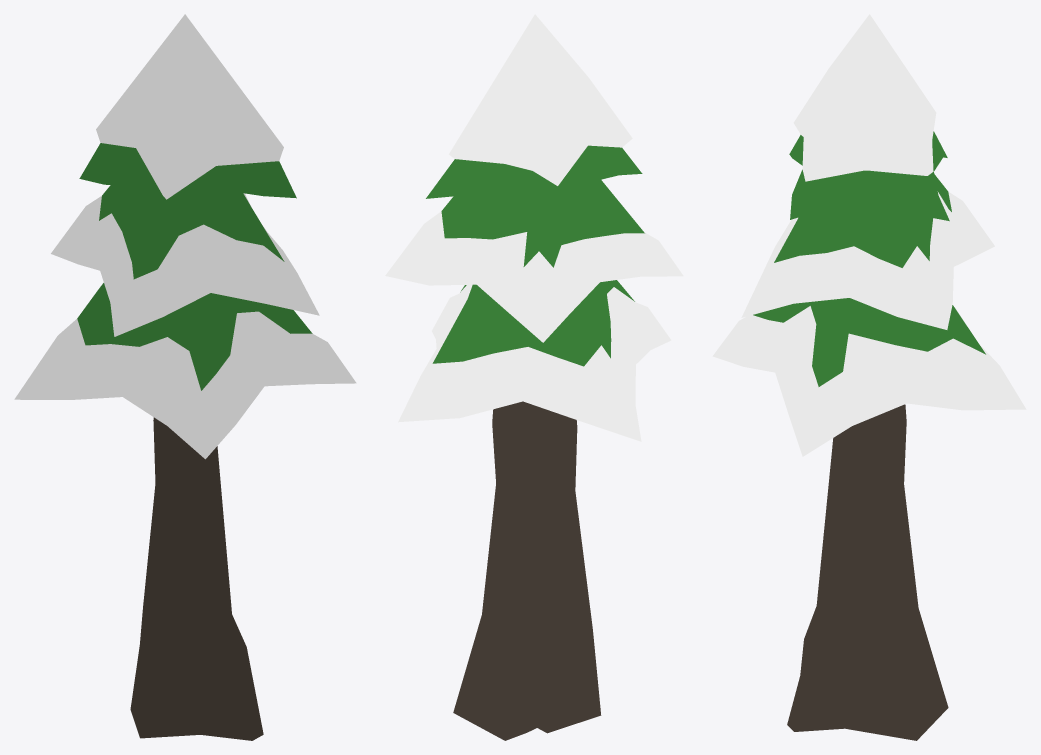
The model's file is pine_small_snowy_01.dae.
3 views of the same model, side by side, from view 1: azimuth 30°, elevation 25°; view 2: azimuth 150°, elevation 25°; view 3: azimuth 270°, elevation 25° (orthographic).
Parts seen in each view (by area): view 1: pine_small_snowy_01-0; view 2: pine_small_snowy_01-0; view 3: pine_small_snowy_01-0.
Boxes of the visible parts, left/top/right/bottom form: pine_small_snowy_01-0: left=14, top=14, right=356, bottom=740; pine_small_snowy_01-0: left=385, top=14, right=683, bottom=740; pine_small_snowy_01-0: left=712, top=14, right=1026, bottom=740.
Bounding box in the file's own units: 3.24 × 7.85 × 3.2.
